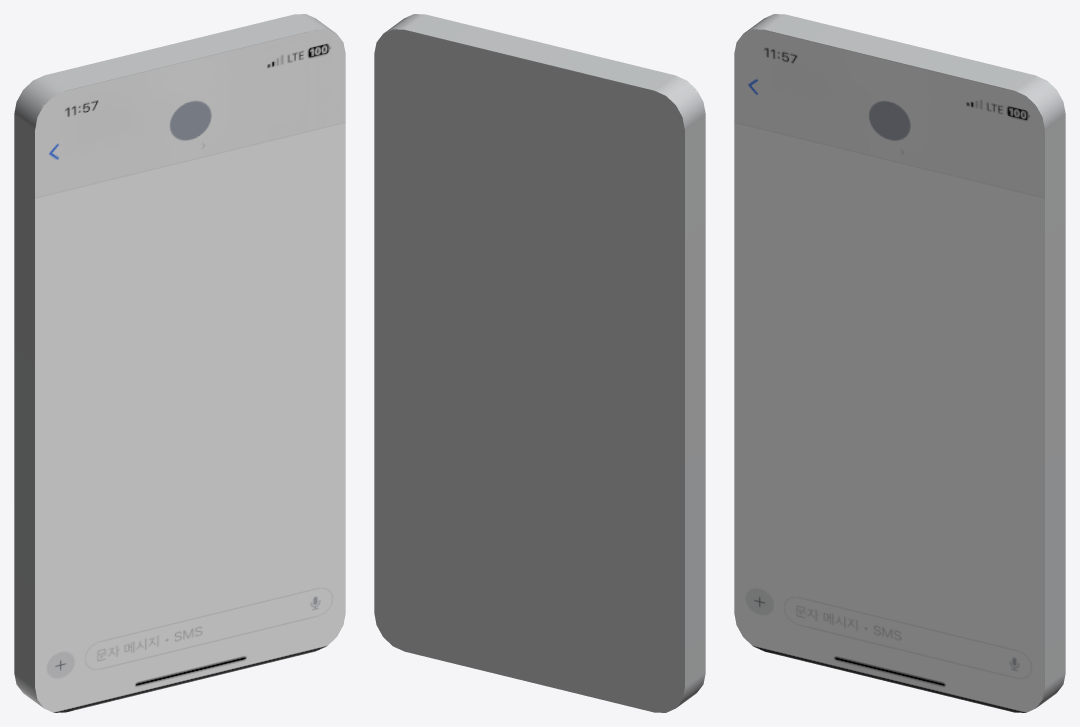
Rendered from tool_Phone_message.fbx.
3 renders of one model, left to right at view 1: azimuth 30°, elevation 25°; view 2: azimuth 150°, elevation 25°; view 3: azimuth 330°, elevation 25°, orthographic.
Visible parts, largest first — view 1: Phone_Message; view 2: Phone_Message; view 3: Phone_Message.
Part boxes in pixels (x1=…): Phone_Message: x1=14, y1=14, x2=345, y2=712; Phone_Message: x1=374, y1=14, x2=705, y2=712; Phone_Message: x1=734, y1=14, x2=1065, y2=712.
Size of the model in its own units: 0.0937 by 0.1792 by 0.0109.
